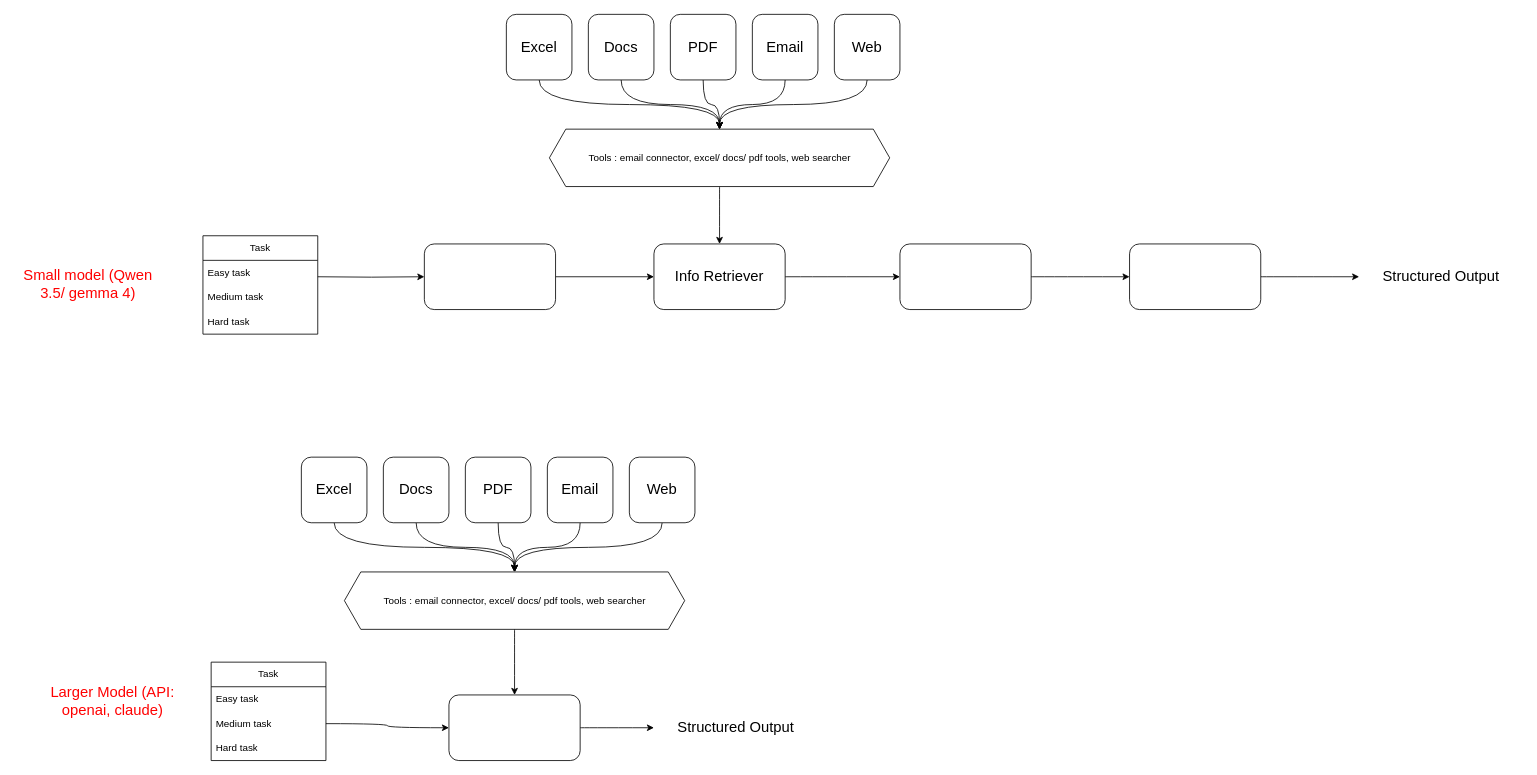
Some shapes in this 1537 by 775 pixel diagram are drawn without their labels. Each missing label, with the centre of its shape:
Agent: point 514,727
Planner: point 490,276
Reasoner (assemble final output): point 965,276
Verifier: point 1195,276
